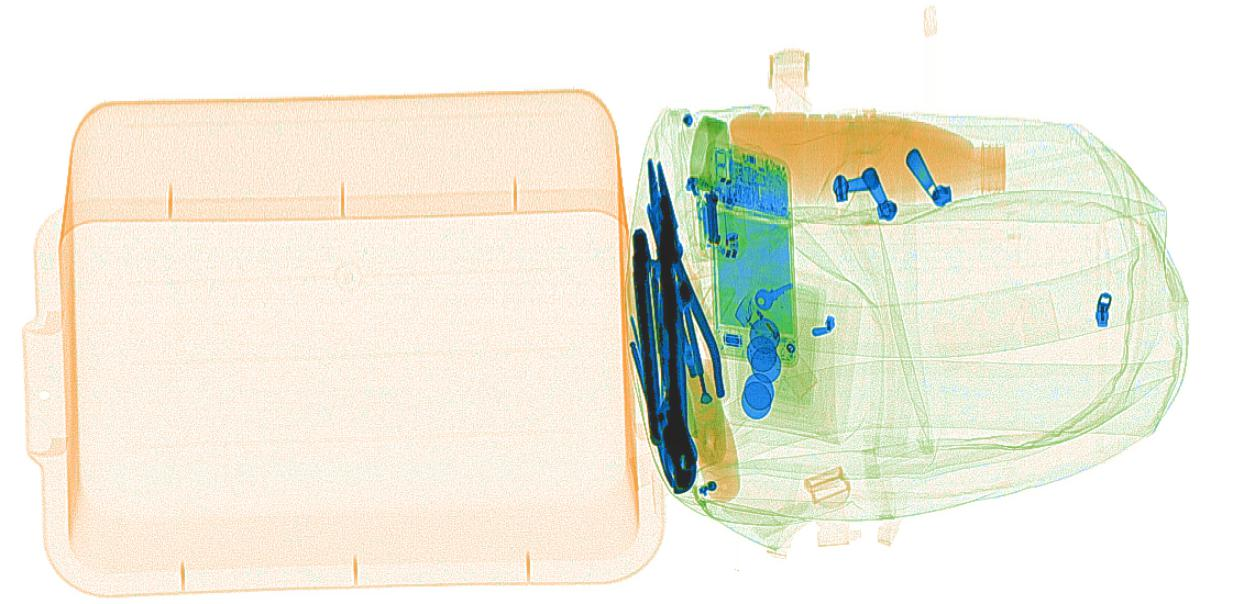lighter: (730, 292, 816, 399)
